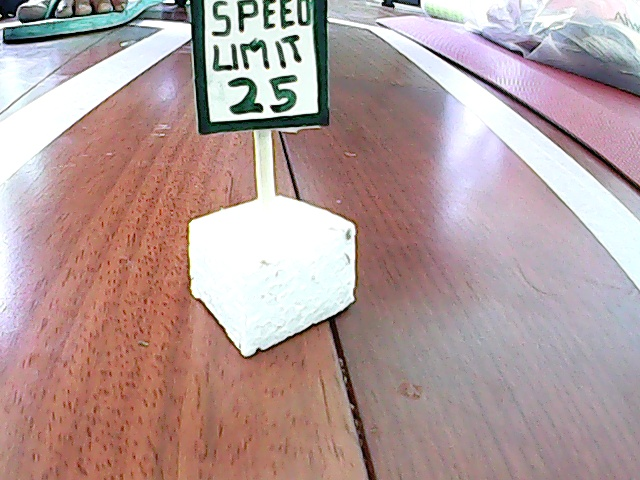speed_25: (171, 1, 379, 330)
